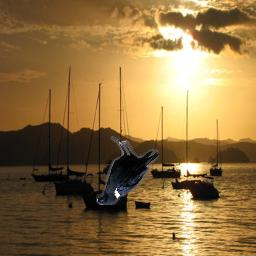Crow: (97, 135, 160, 205)
